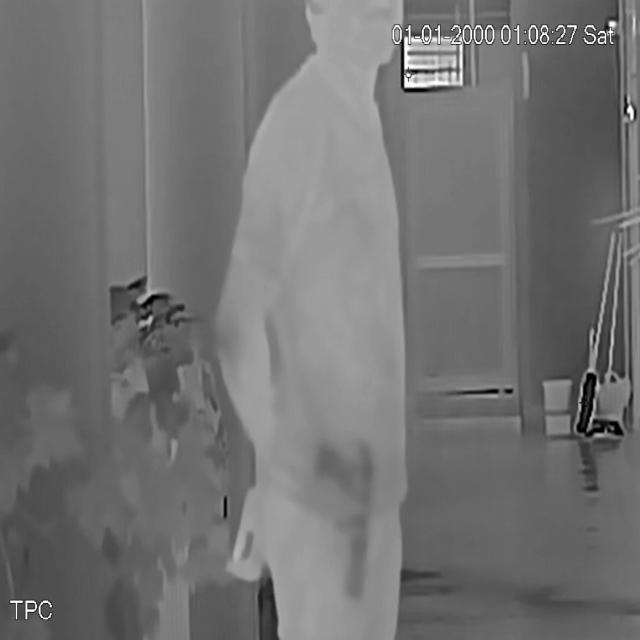Weapon: (316, 419, 386, 614)
